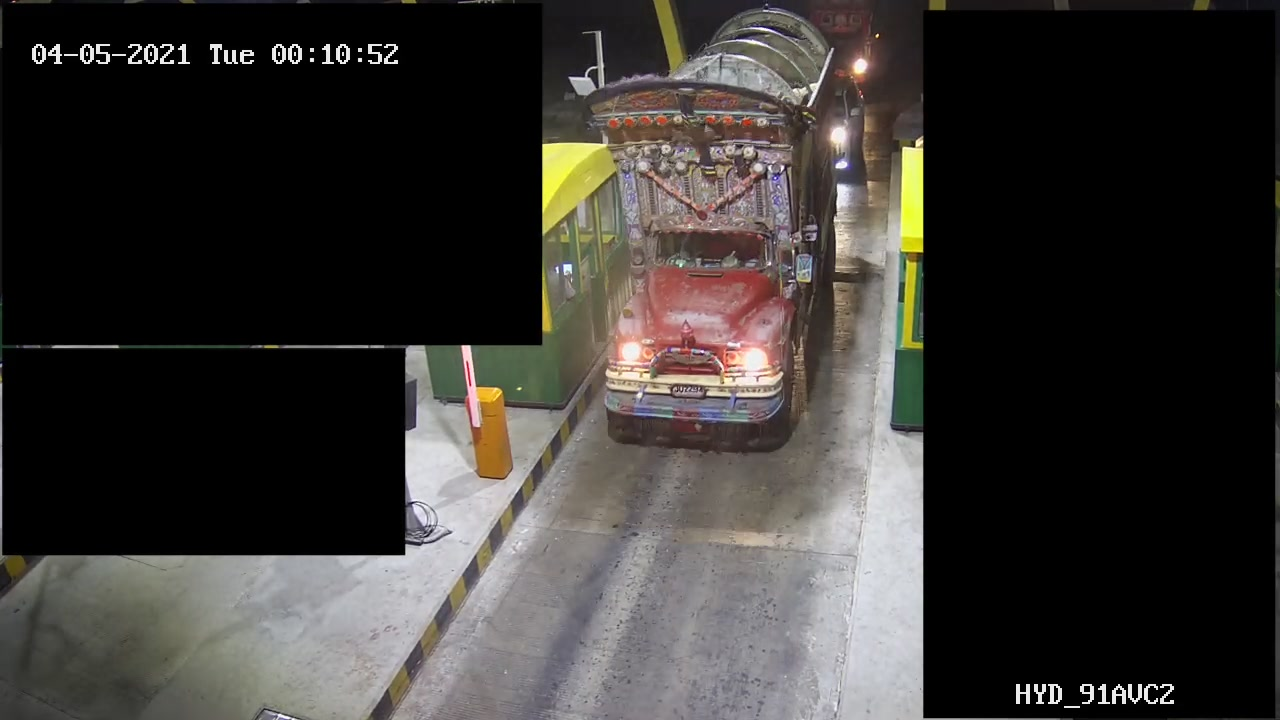F5: (603, 8, 850, 446)
